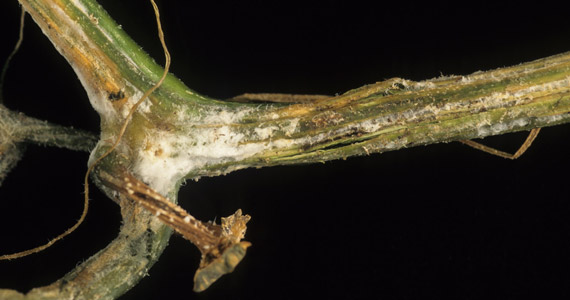Fusarium: (70, 61, 263, 170), (302, 111, 428, 139), (442, 103, 535, 129), (135, 169, 178, 197)
